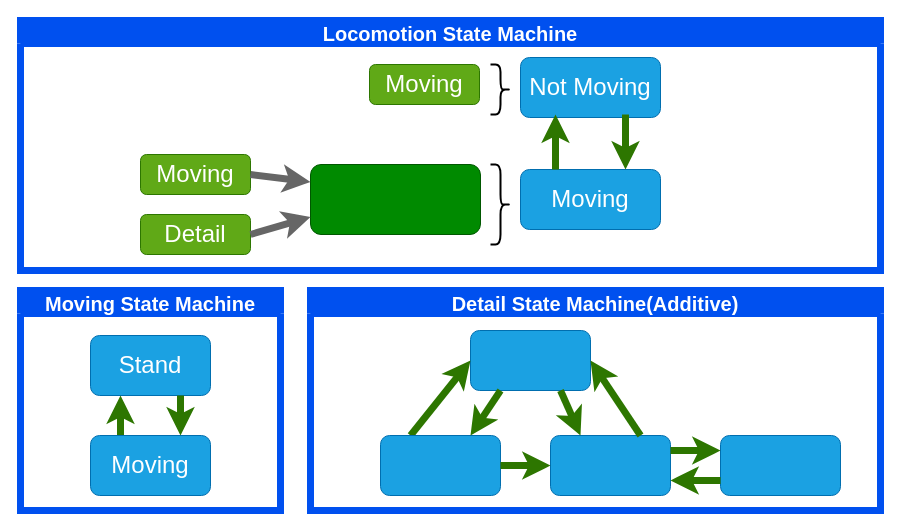
Image size: 901x531. Some labels were removed from this diagram. The centre of each missing label's shape, as x and y in pixels:
"ApplyAdditive" belongs at point (395, 199).
"Pivot" belongs at point (780, 465).
"Run Start" belongs at point (440, 465).
"Runing" belongs at point (610, 465).
"Walk" belongs at point (530, 360).
